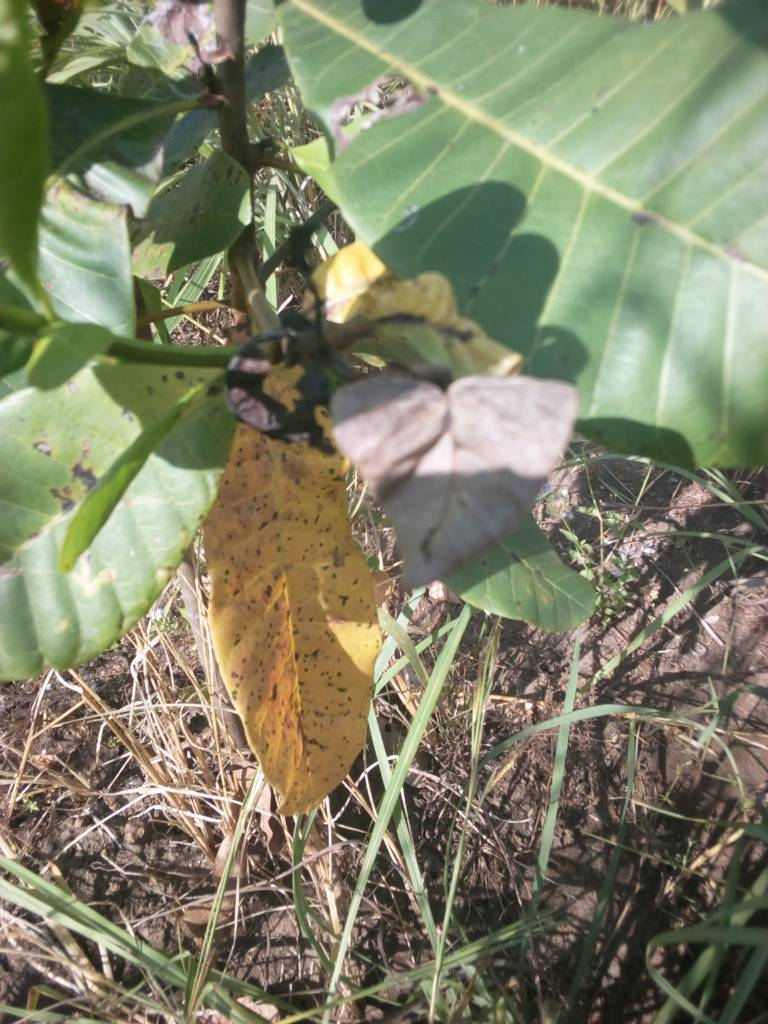Anthracnose: (211, 428, 383, 816)
